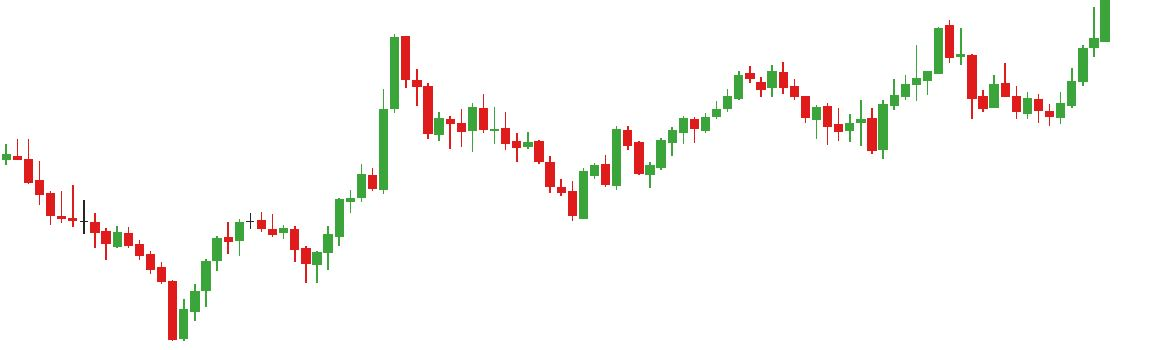sell: (778, 17, 981, 88)
